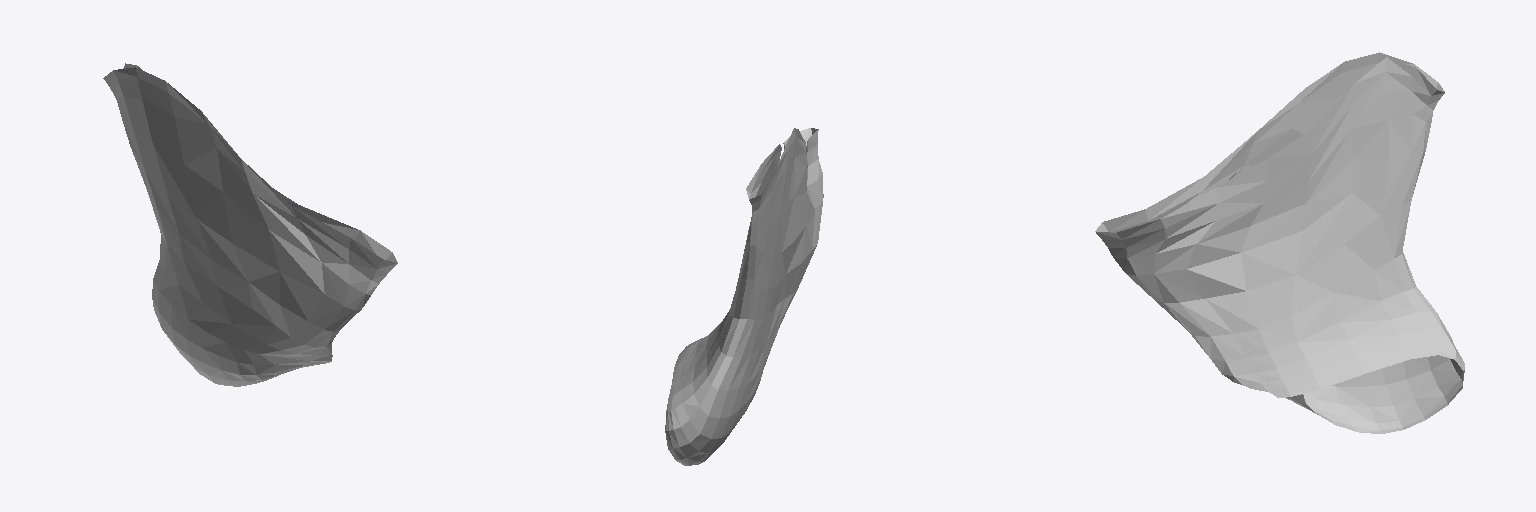
Rendered from Masseter_Superficial_Muscle_Right.obj.
The picture shows the model from 3 angles: view 1: azimuth 30°, elevation 25°; view 2: azimuth 150°, elevation 25°; view 3: azimuth 270°, elevation 25°; orthographic projection.
Visible parts, largest first — view 1: Masseter_Superficial_Muscle_Right1_Mesh group1; view 2: Masseter_Superficial_Muscle_Right1_Mesh group1; view 3: Masseter_Superficial_Muscle_Right1_Mesh group1.
Part boxes in pixels (bbox=[...]): Masseter_Superficial_Muscle_Right1_Mesh group1: bbox=[103, 63, 397, 386]; Masseter_Superficial_Muscle_Right1_Mesh group1: bbox=[665, 128, 823, 465]; Masseter_Superficial_Muscle_Right1_Mesh group1: bbox=[1095, 52, 1464, 433].
Bounding box in the file's own units: 0.3792 × 0.8129 × 0.8053.